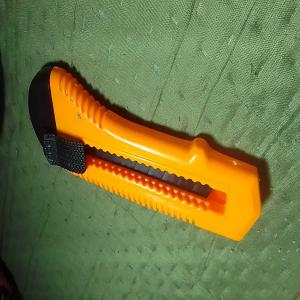estilete: (28, 63, 262, 242)
